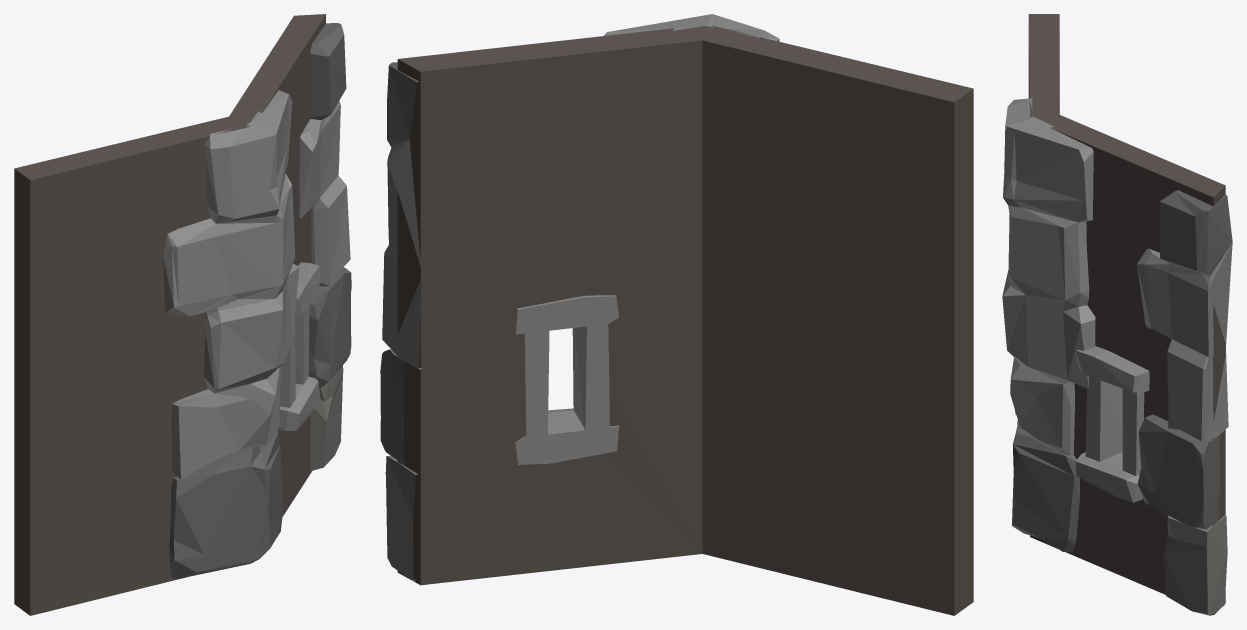
The model's file is MCastle_OctWalls_SmlWindow_02.FBX.
3 renders of one model, left to right at view 1: azimuth 30°, elevation 25°; view 2: azimuth 150°, elevation 25°; view 3: azimuth 270°, elevation 25°, orthographic. The views are drawn at different scales.
Visible parts, largest first — view 1: MCastle_OctWalls_SmlWindow_02_LOD0; view 2: MCastle_OctWalls_SmlWindow_02_LOD0; view 3: MCastle_OctWalls_SmlWindow_02_LOD0.
Boxes of the visible parts, x1,y1,x2,y2 form: MCastle_OctWalls_SmlWindow_02_LOD0: (14, 14, 351, 615); MCastle_OctWalls_SmlWindow_02_LOD0: (380, 14, 973, 615); MCastle_OctWalls_SmlWindow_02_LOD0: (1002, 14, 1232, 615).
Size of what is drawn, in the model's own units: 4.42 by 4.47 by 2.23.
